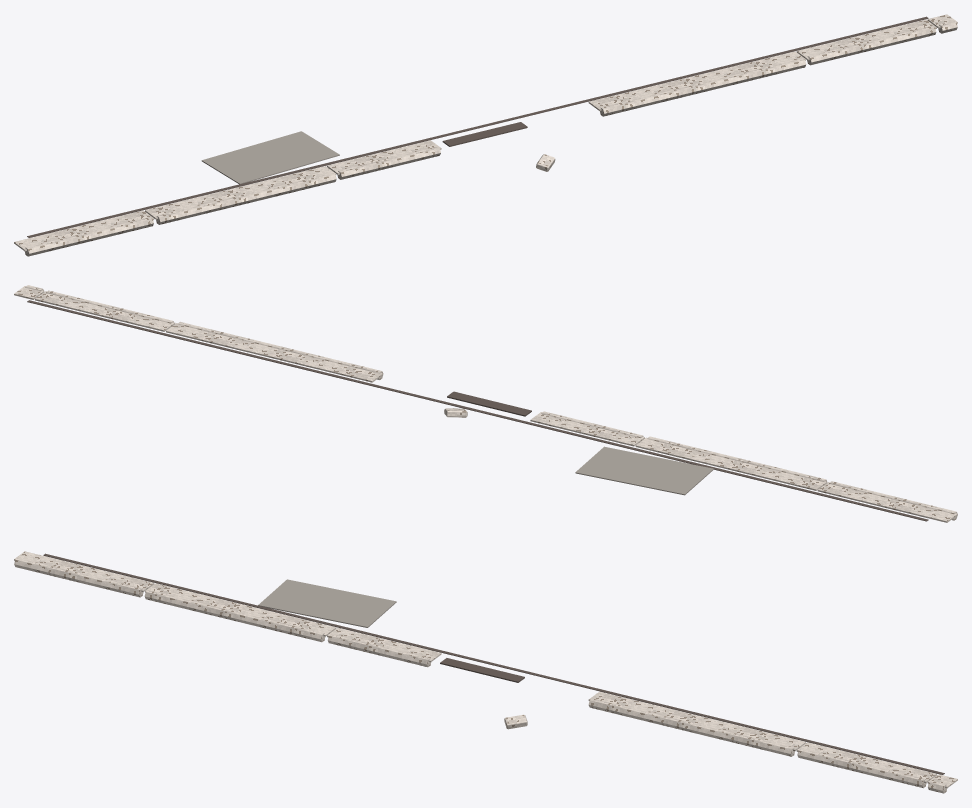
The model's file is s_longstep_a.glb.
3 renders of one model, top to bottom at view 1: azimuth 30°, elevation 25°; view 2: azimuth 150°, elevation 25°; view 3: azimuth 330°, elevation 25°, orthographic.
Visible parts, largest first — view 1: s_longstep_a_mesh; view 2: s_longstep_a_mesh; view 3: s_longstep_a_mesh.
Boxes of the visible parts, left/top/right/bottom form: s_longstep_a_mesh: left=14, top=14, right=957, bottom=256; s_longstep_a_mesh: left=14, top=285, right=957, bottom=522; s_longstep_a_mesh: left=14, top=551, right=957, bottom=793.
Size of what is drawn, in the model's own units: 7.99 by 0.2996 by 1.01.
Materials: 3 (3 with a texture image).
